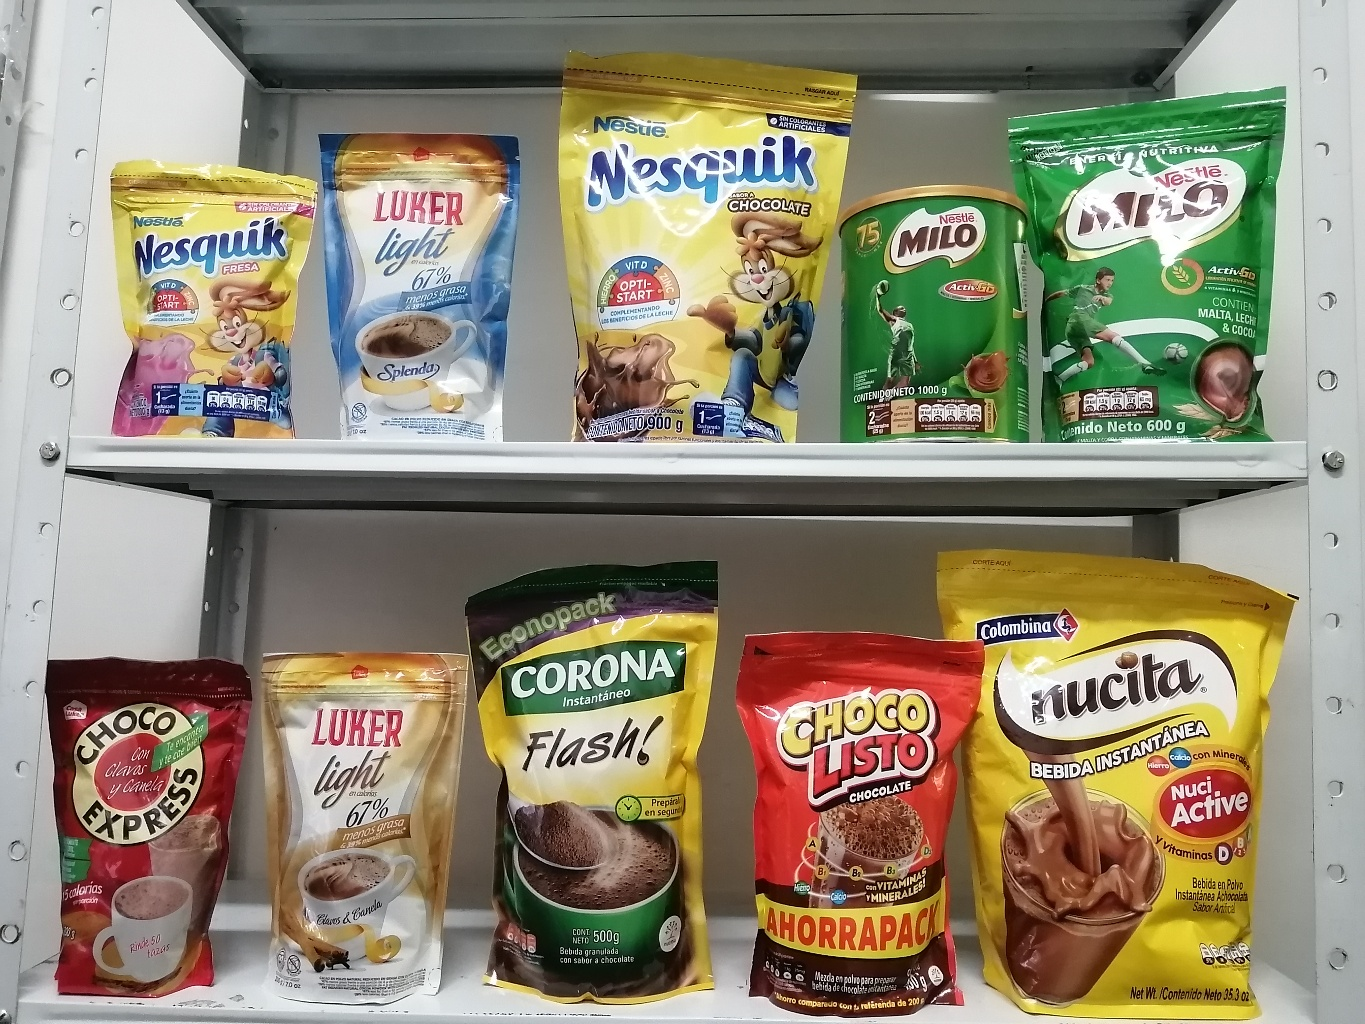COL0170103DYP40000: (733, 622, 976, 1016)
COL0170305DYP20000: (103, 150, 331, 447)
